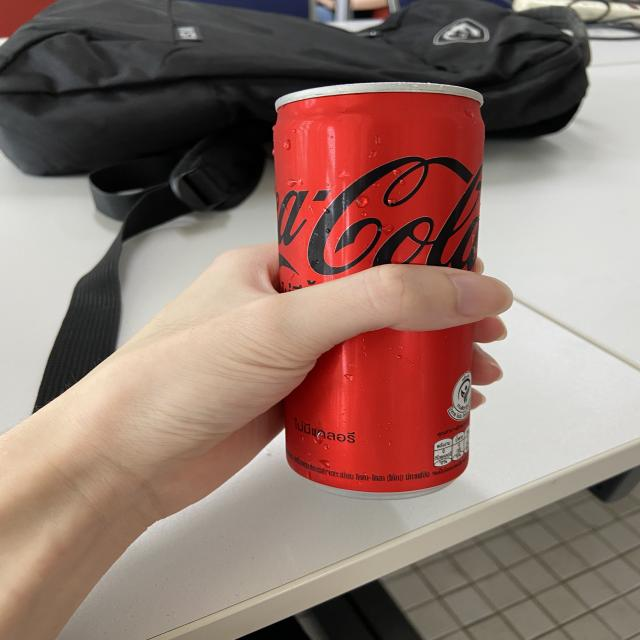can: (270, 81, 490, 501)
